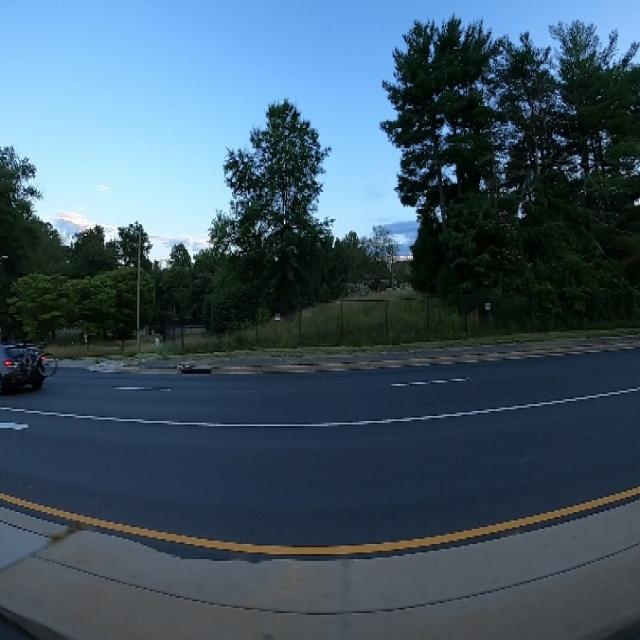cars: (0, 344, 53, 391)
